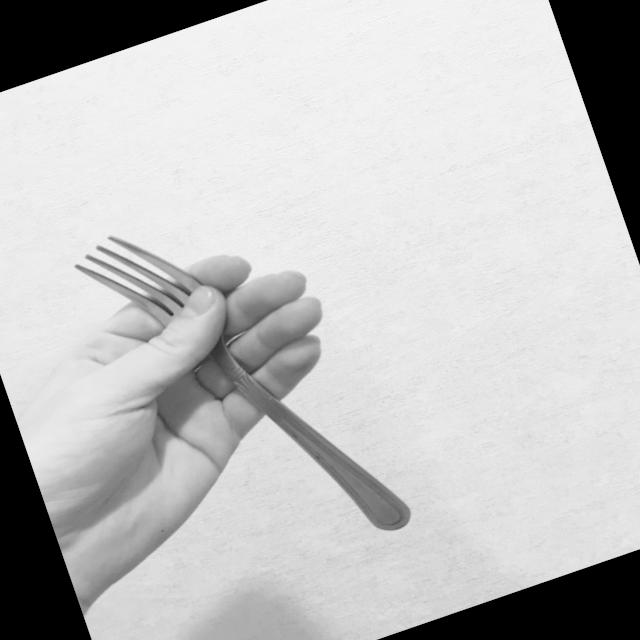fork: (63, 171, 416, 602)
